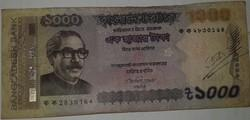1000 taka: (2, 8, 250, 107)
